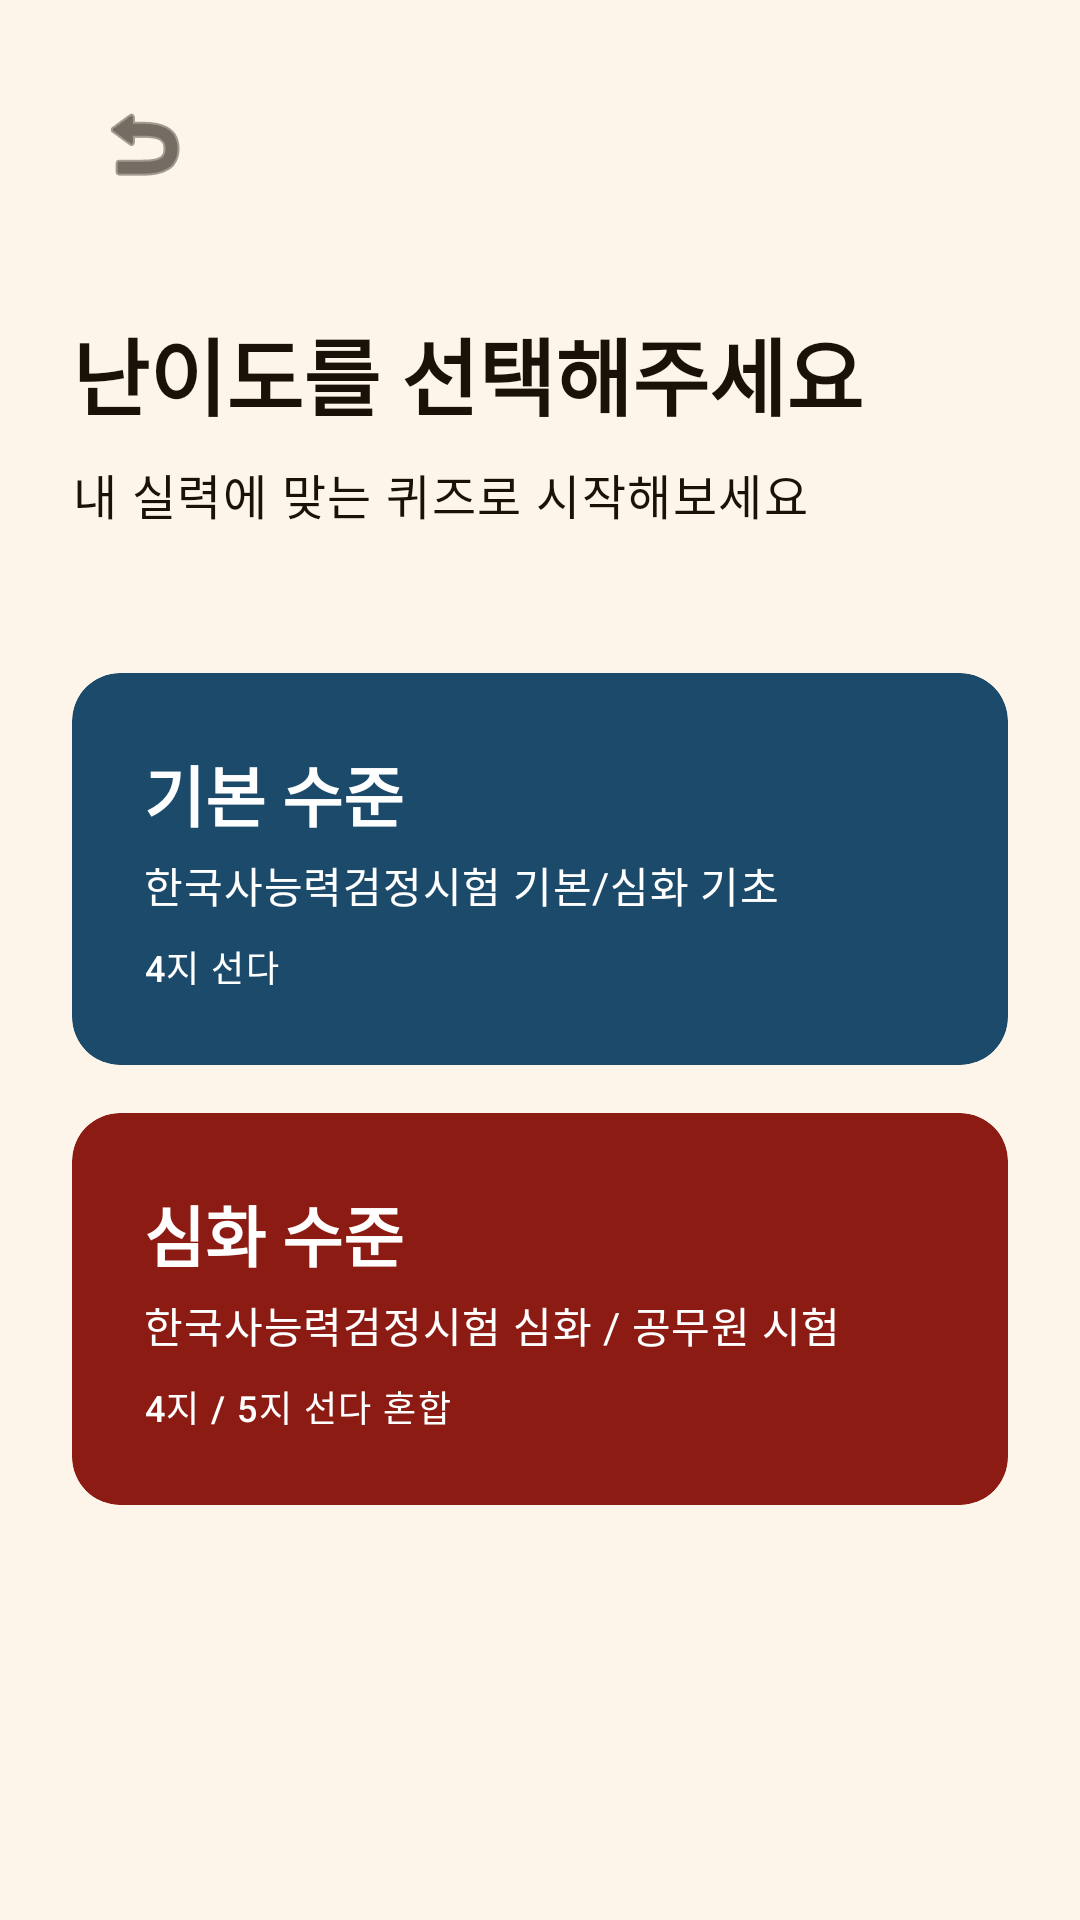

Named icons in this screenshot (1080 x 1920) and their bounding boxes, (x1, y1, x2, y2):
뒤로 가기: (111, 113, 180, 176)
